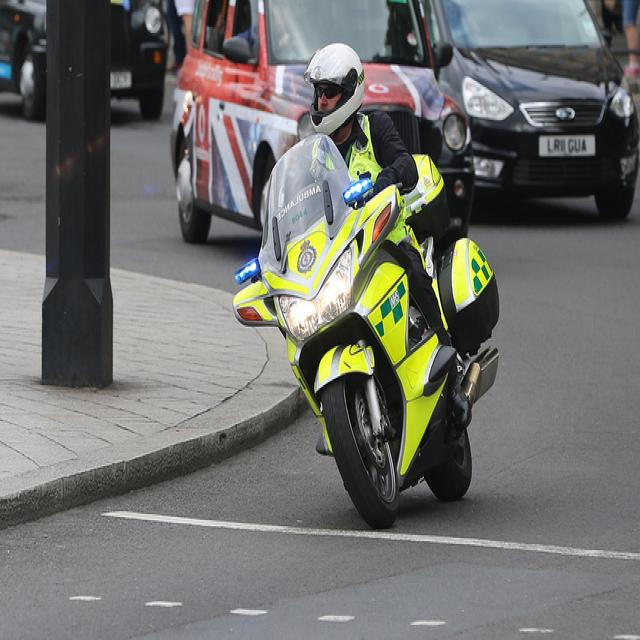motor: (233, 132, 505, 527)
